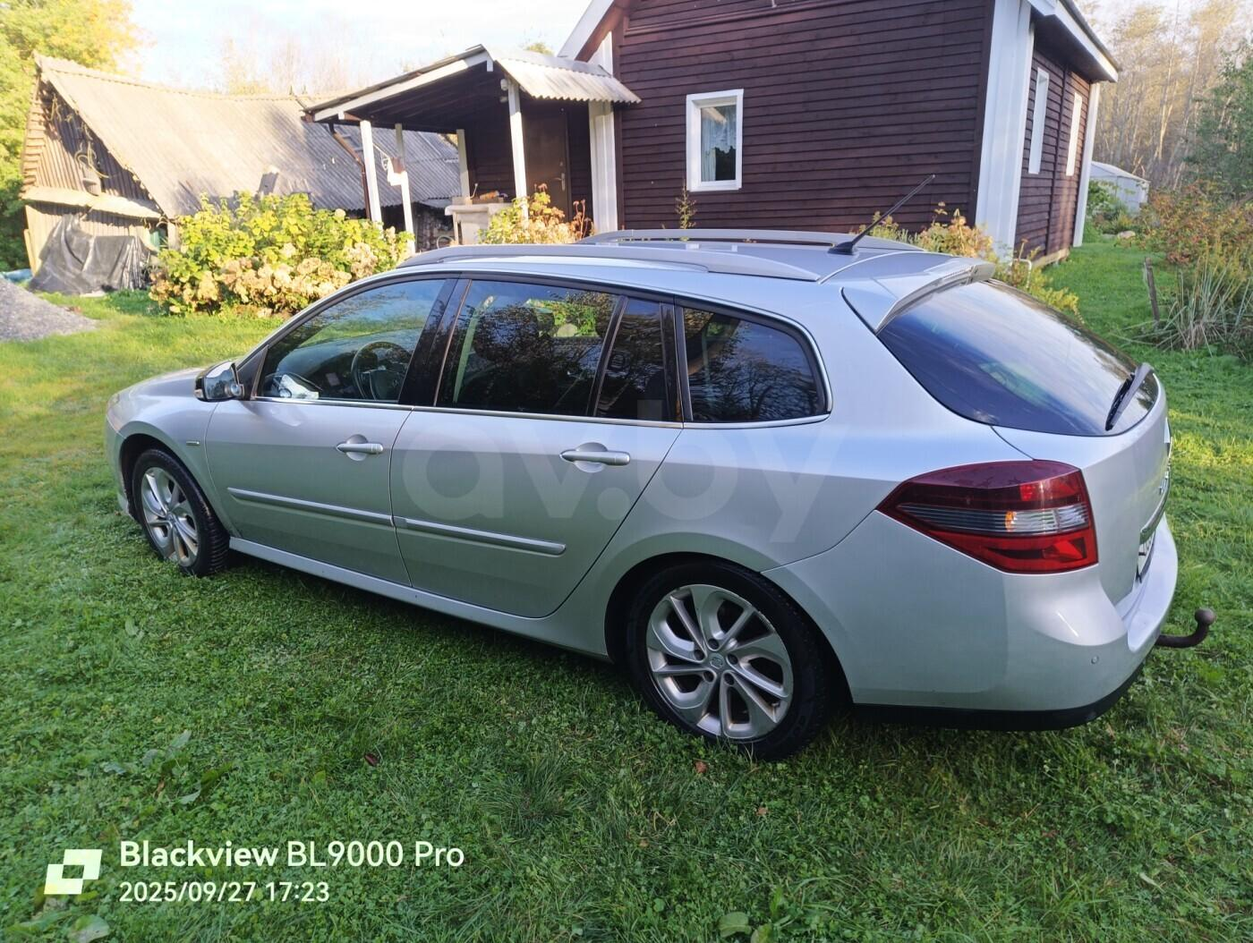Laguna_2010-2015: (101, 226, 1197, 773)
